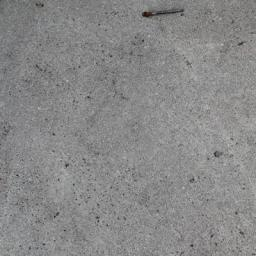FOD: (140, 8, 189, 20)
